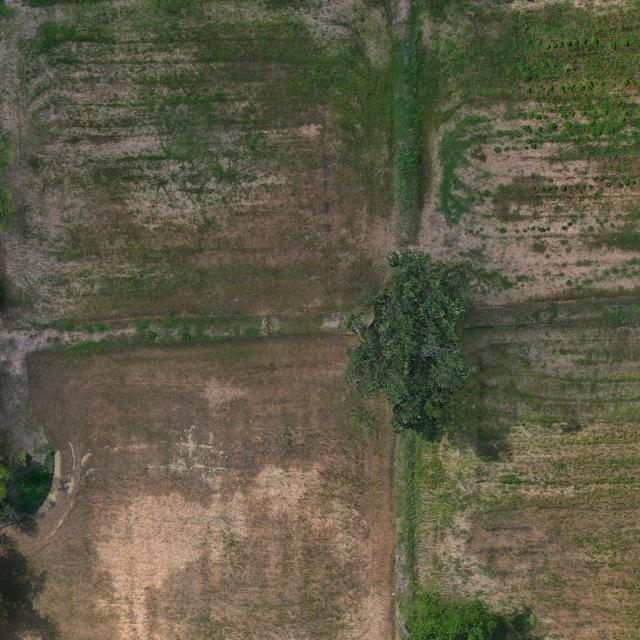Tree: (343, 245, 478, 442), (396, 589, 538, 640)
